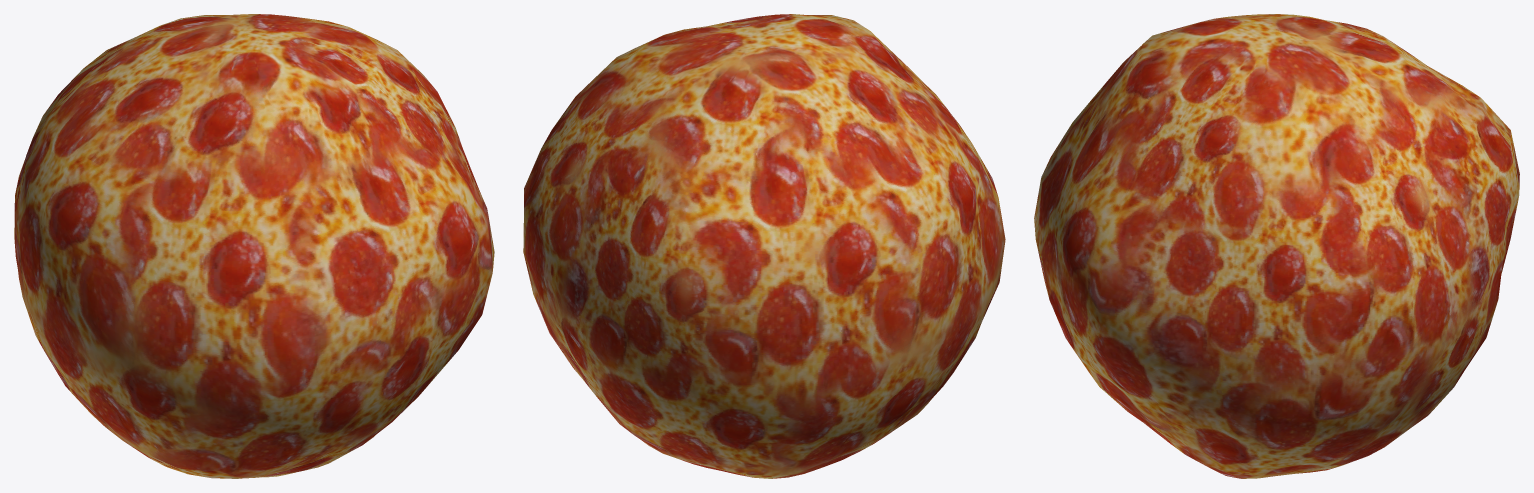
File: pizza_ball.dae
3 views of the same model, side by side, from view 1: azimuth 30°, elevation 25°; view 2: azimuth 150°, elevation 25°; view 3: azimuth 270°, elevation 25° (orthographic). The views are drawn at different scales.
Visible parts, largest first — view 1: Sphere; view 2: Sphere; view 3: Sphere.
Part boxes in pixels (x1=…): Sphere: x1=14, y1=14, x2=494, y2=478; Sphere: x1=523, y1=14, x2=1005, y2=478; Sphere: x1=1034, y1=14, x2=1519, y2=478.
Bounding box in the file's own units: 2.08 × 2.08 × 2.15.
